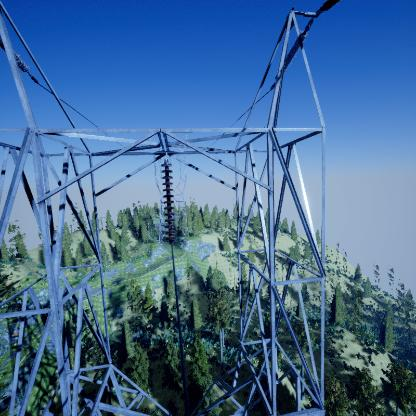insulator: (160, 162, 178, 244)
